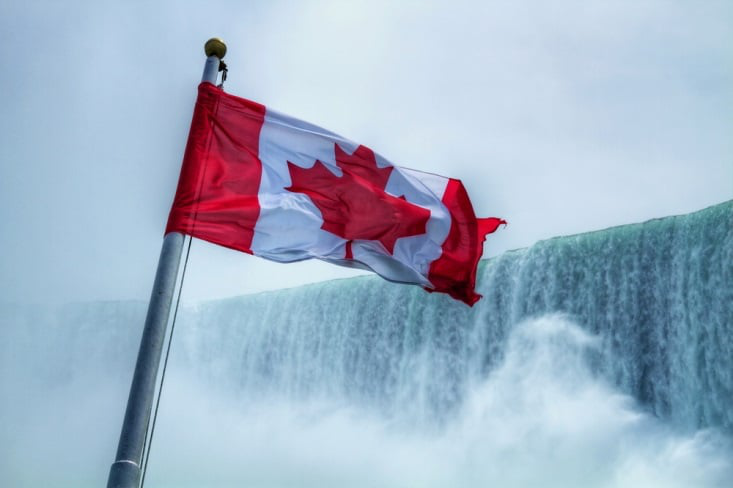Canada flag: (184, 82, 506, 306)
